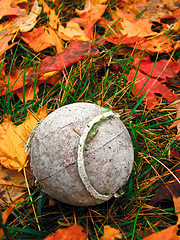tennis ball: (27, 100, 137, 208)
